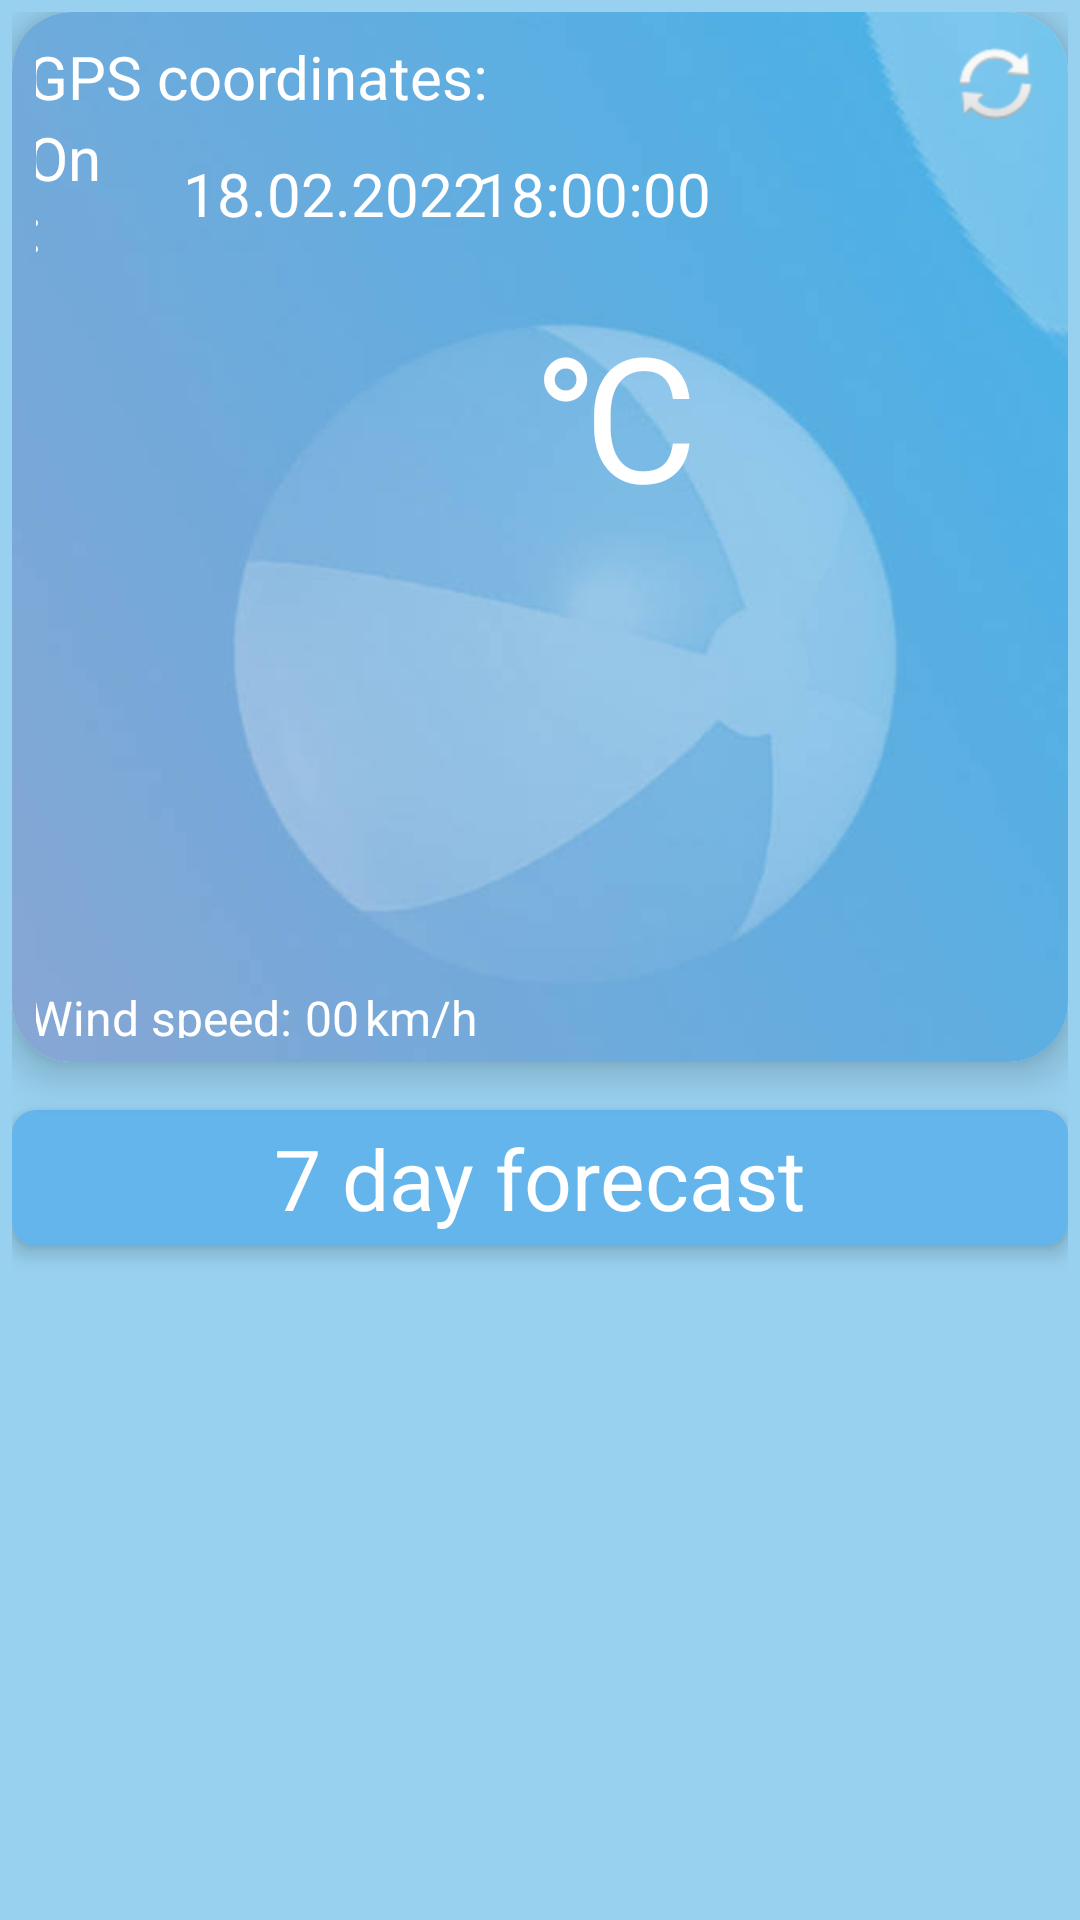

Screen size 1080 x 1920. Icon name, then its center in pixels as point (x, y):
refresh gps: point (995, 83)
